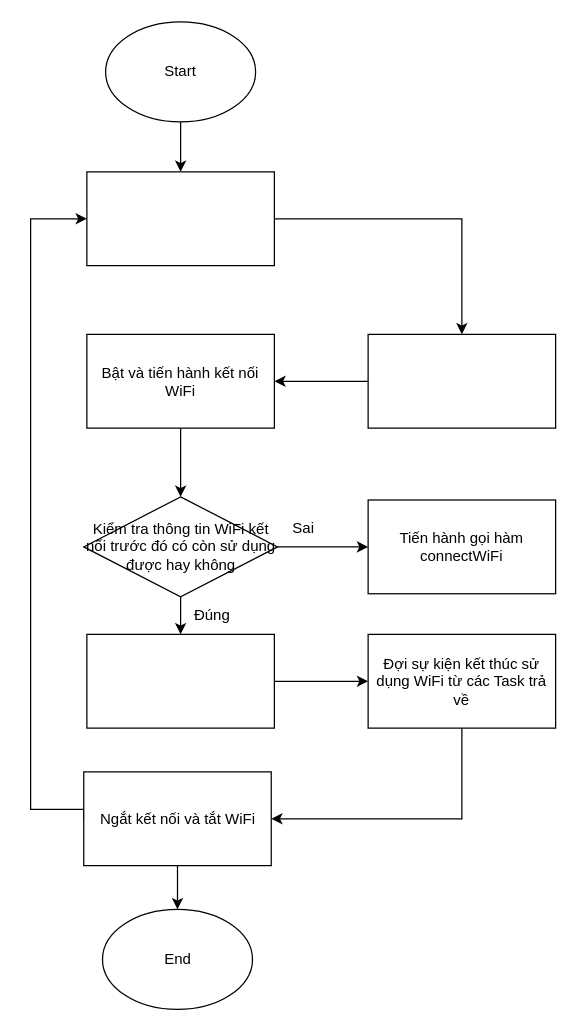
This 578x1031 diagram has some shape labels left out. Here are the shapes that lost their labels. From the top down, the box of each, then its label:
(86, 171, 274, 266): Đợi yêu cầu sử dụng WiFi từ các Task GetData
(367, 333, 556, 428): Đếm số Task cần sử dụng WiFi
(86, 633, 274, 728): Trả về sự kiện WiFi sẵn sàng để sử dụng cho các Task yêu cầu
